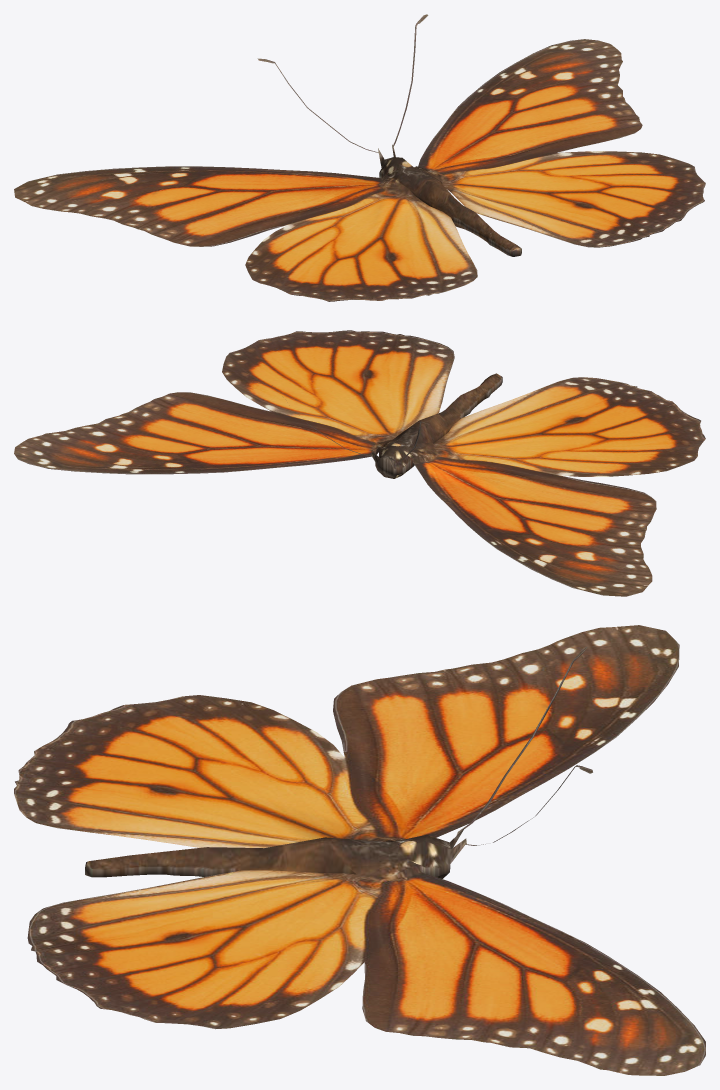
The model's file is Butterfly.fbx.
The picture shows the model from 3 angles, top to bottom: view 1: azimuth 30°, elevation 25°; view 2: azimuth 150°, elevation 25°; view 3: azimuth 270°, elevation 25°; orthographic projection. The views are drawn at different scales.
Parts seen in each view (by area): view 1: LeftWing, RightWing, Body; view 2: LeftWing, RightWing, Body; view 3: LeftWing, RightWing, Body.
Part boxes in pixels (x1=…): LeftWing: x1=14, y1=166, x2=477, y2=301; RightWing: x1=417, y1=39, x2=705, y2=247; Body: x1=257, y1=14, x2=521, y2=256; LeftWing: x1=412, y1=377, x2=705, y2=596; RightWing: x1=14, y1=330, x2=454, y2=474; Body: x1=252, y1=373, x2=502, y2=478; LeftWing: x1=14, y1=625, x2=679, y2=848; RightWing: x1=27, y1=864, x2=705, y2=1075; Body: x1=85, y1=646, x2=592, y2=878.
Bounding box in the file's own units: 228 × 41.15 × 148.
1 material, 1 textured.
